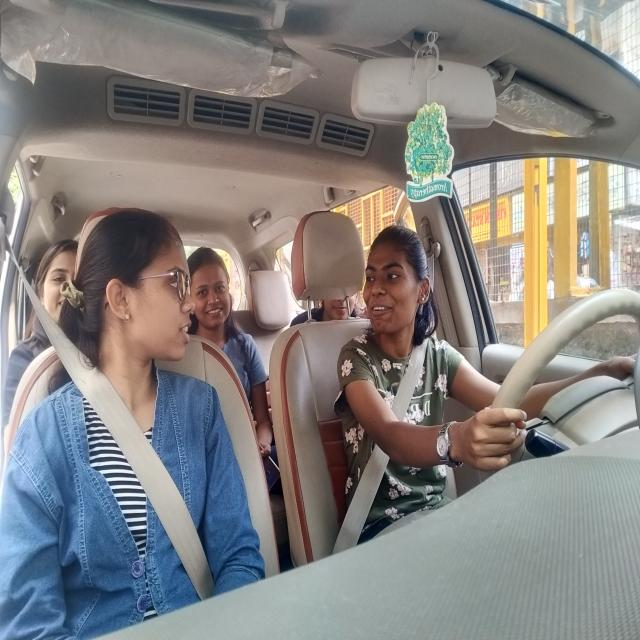LeftRight: (359, 222, 429, 351)
person: (82, 206, 196, 396), (188, 230, 237, 350), (36, 240, 77, 328)
talking: (370, 301, 394, 317), (178, 320, 194, 343)
